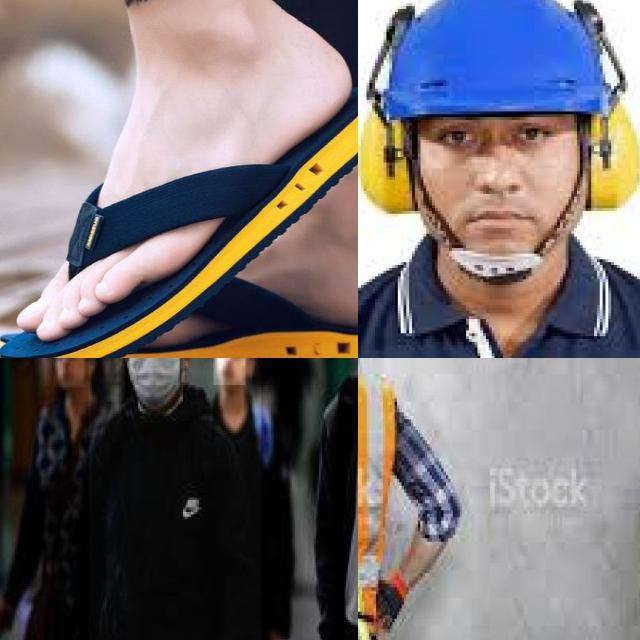Ear-protection: (358, 86, 420, 211), (582, 86, 640, 211)
Sandals: (0, 0, 358, 358)
face_mask: (125, 358, 182, 411)
face_nomask: (53, 358, 85, 389), (213, 358, 246, 387)
head_helmet: (381, 0, 614, 117)
person: (88, 358, 263, 640), (285, 358, 358, 640)
